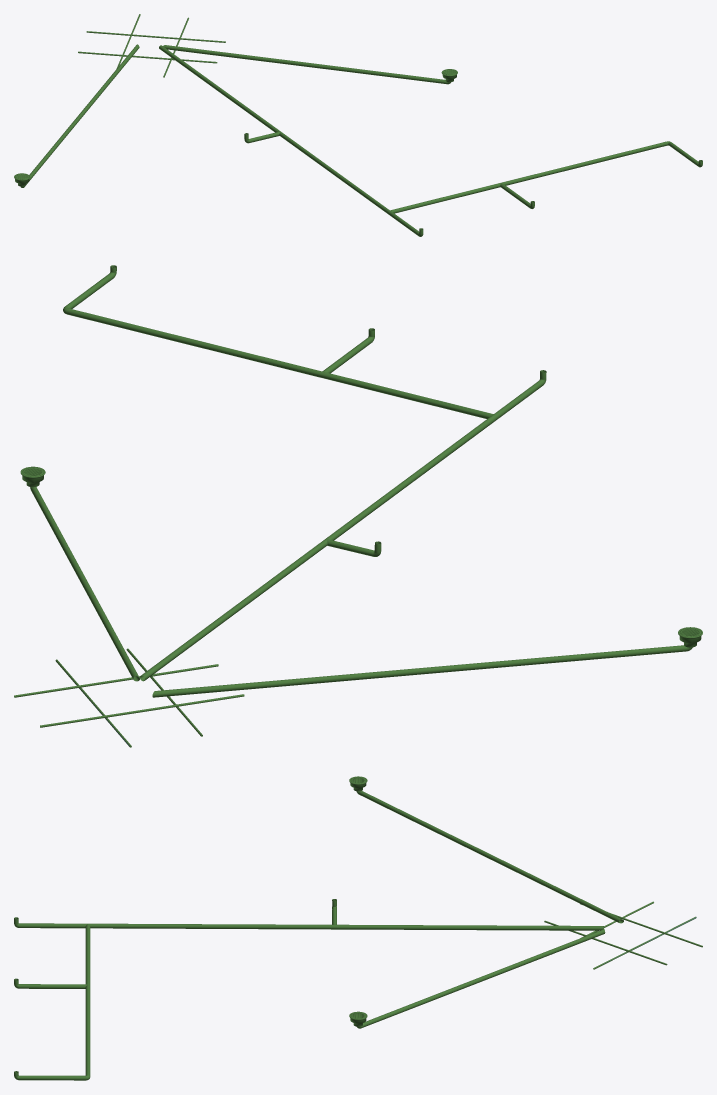
The model's file is T1Block11_One_Quarter_Drainage.fbx.
3 views of the same model, one above another, from view 1: azimuth 30°, elevation 25°; view 2: azimuth 150°, elevation 25°; view 3: azimuth 270°, elevation 25° (orthographic). The views are drawn at different scales.
Parts seen in each view (by area): view 1: default; view 2: default; view 3: default.
Part boxes in pixels (box(x1,y1,x2,y2)): default: box(14, 14, 702, 236); default: box(14, 265, 702, 747); default: box(14, 776, 702, 1080).
Bounding box in the file's own units: 8770 × 277 × 8662.
